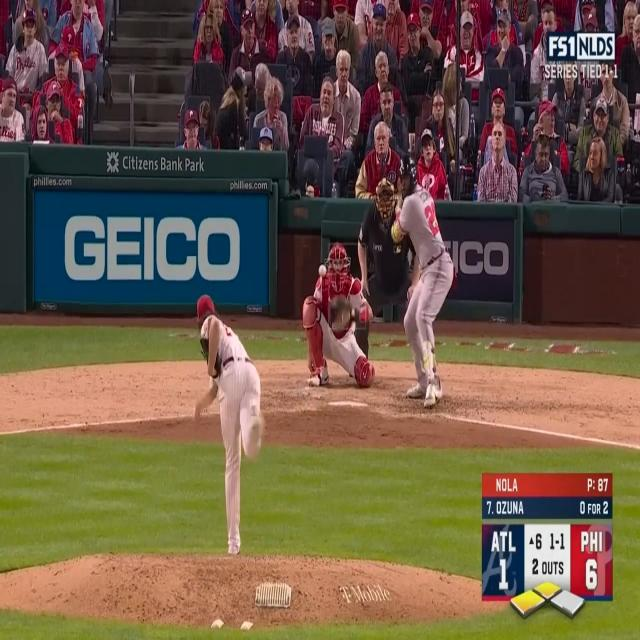baseball: (318, 262, 327, 279)
